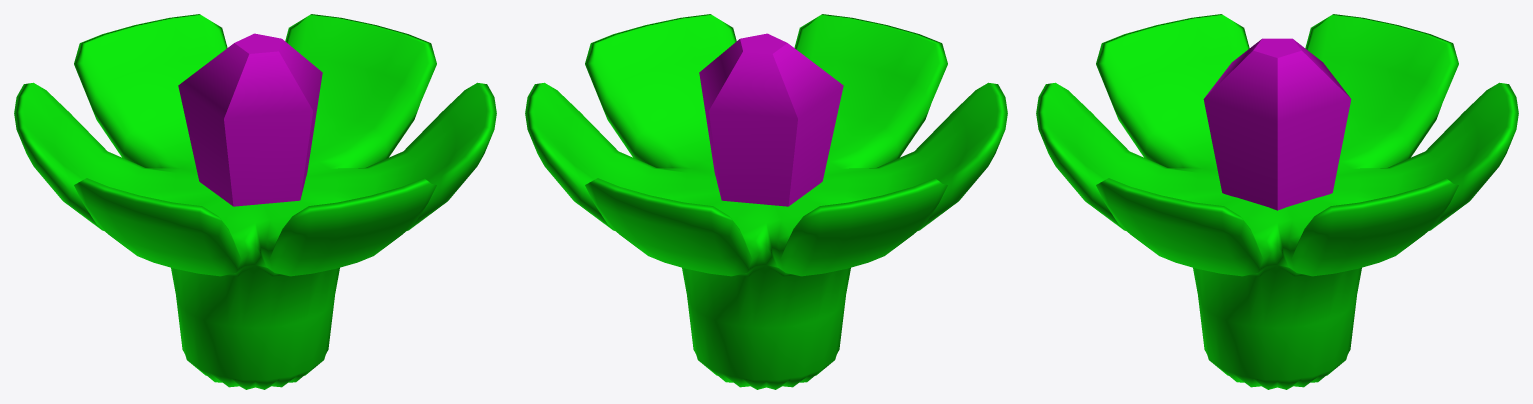
The model's file is Solar Flower.fbx.
3 views of the same model, side by side, from view 1: azimuth 30°, elevation 25°; view 2: azimuth 150°, elevation 25°; view 3: azimuth 270°, elevation 25° (orthographic).
Visible parts, largest first — view 1: pCylinder1, pCylinder2; view 2: pCylinder1, pCylinder2; view 3: pCylinder1, pCylinder2.
Part boxes in pixels (x1,y1,x2,y2): pCylinder1: [14, 14, 496, 389]; pCylinder2: [178, 33, 322, 206]; pCylinder1: [525, 14, 1007, 389]; pCylinder2: [699, 33, 843, 206]; pCylinder1: [1036, 14, 1518, 389]; pCylinder2: [1203, 38, 1351, 210].
Bounding box in the file's own units: 5.82 × 4.4 × 5.97.
